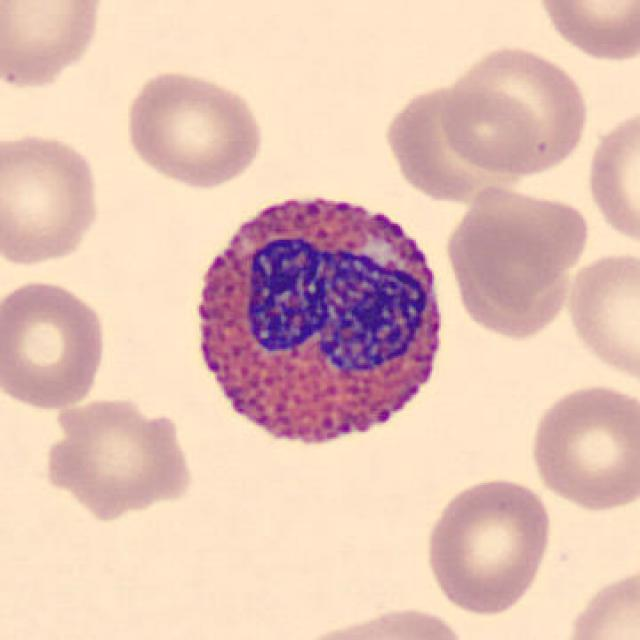Eosinophil: (174, 171, 459, 476)
RBC: (436, 46, 592, 182), (38, 393, 198, 520), (419, 472, 556, 619), (447, 192, 594, 318), (398, 78, 544, 202), (121, 67, 267, 190), (524, 379, 638, 515), (0, 275, 110, 414), (0, 128, 105, 270), (447, 226, 571, 343), (562, 247, 638, 384), (0, 0, 108, 93), (583, 100, 640, 254), (282, 603, 474, 640), (529, 0, 638, 63), (558, 562, 640, 640)
